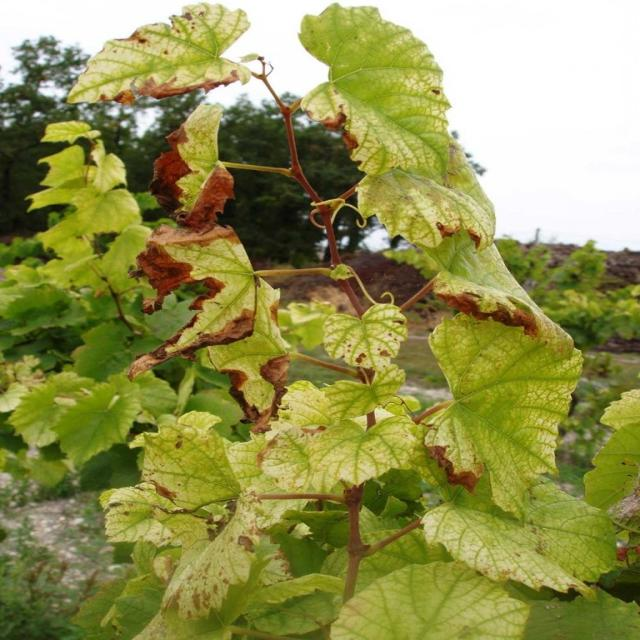Chlorosis: (5, 18, 538, 622)
